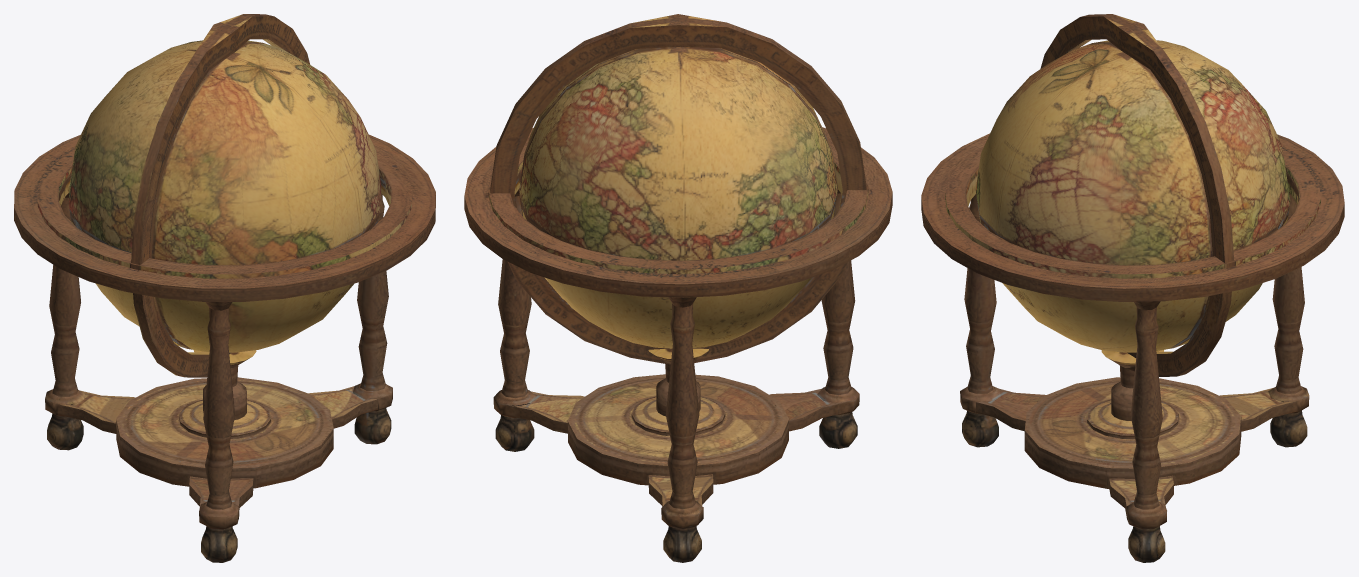
The model's file is Globe.fbx.
3 renders of one model, left to right at view 1: azimuth 30°, elevation 25°; view 2: azimuth 150°, elevation 25°; view 3: azimuth 270°, elevation 25°, orthographic.
Parts seen in each view (by area): view 1: Globe_Low; view 2: Globe_Low; view 3: Globe_Low.
Part boxes in pixels (x1,y1,x2,y2): Globe_Low: (14,14,435,562); Globe_Low: (464,14,892,562); Globe_Low: (921,14,1344,562).
Size of the model in its own units: 1.73 by 2.06 by 1.73.
